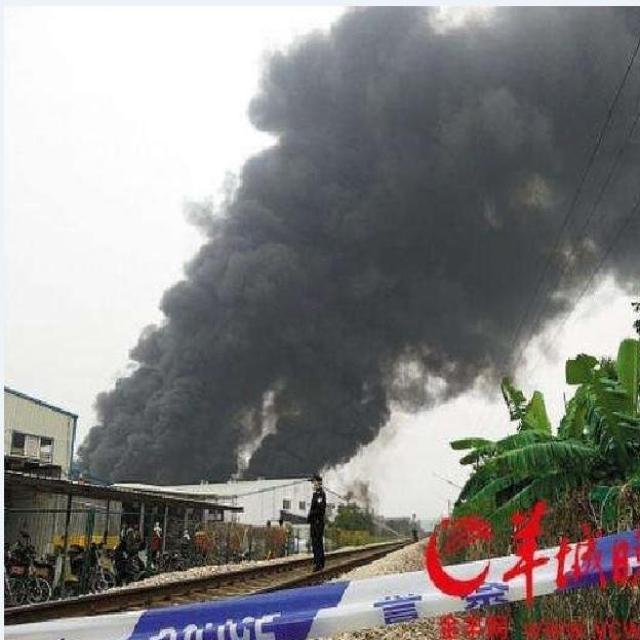Smoke: (68, 6, 640, 515)
